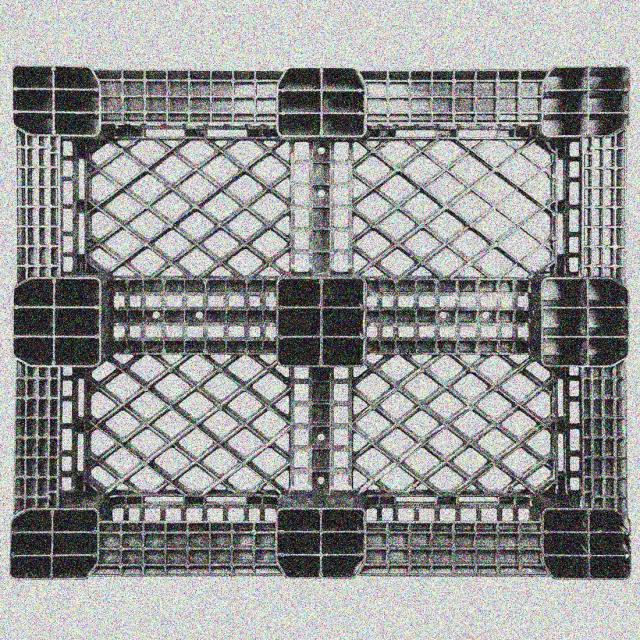non-igps: (1, 58, 638, 589)
